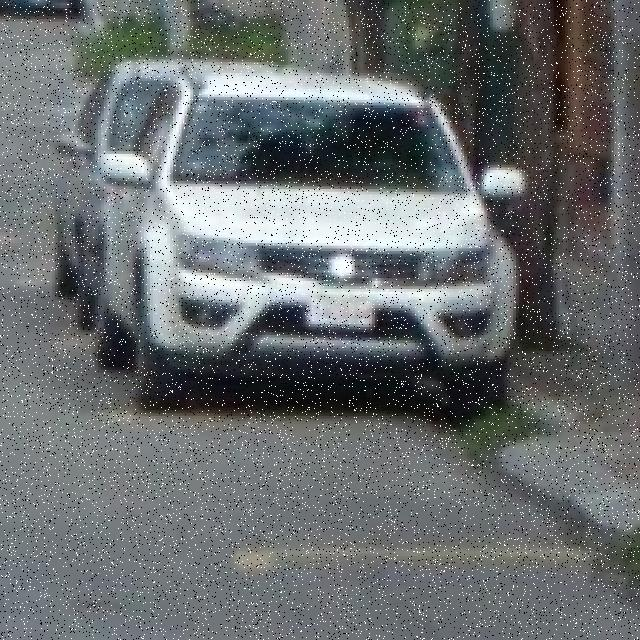cars: (86, 64, 536, 403)
